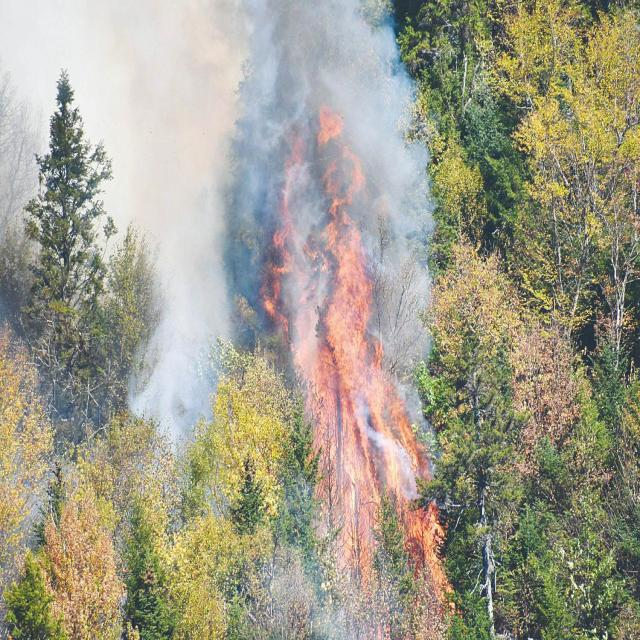Fire: (242, 105, 454, 629)
Smoke: (49, 18, 450, 508)
